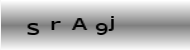9: (94, 22, 108, 36)
A: (71, 17, 88, 32)
S: (26, 21, 40, 36)
j: (107, 15, 115, 31)
r: (50, 19, 62, 32)
